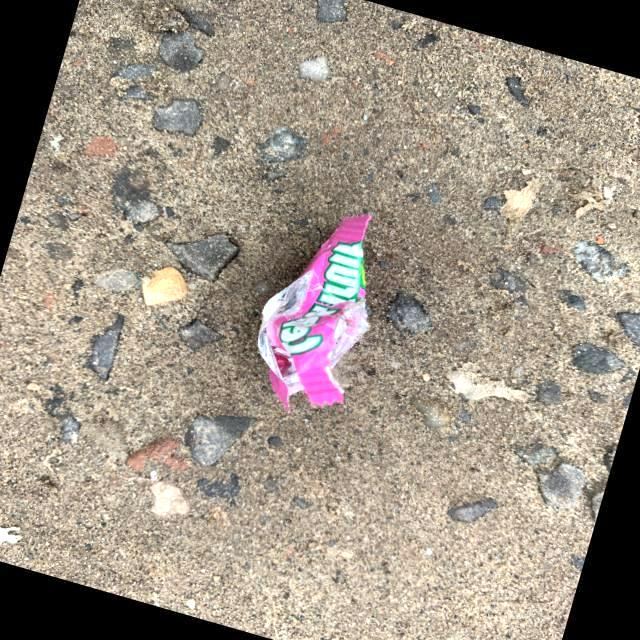packet: (236, 188, 401, 429)
